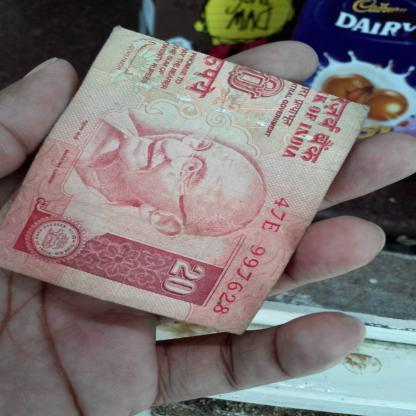Old20Front: (23, 30, 346, 326)
